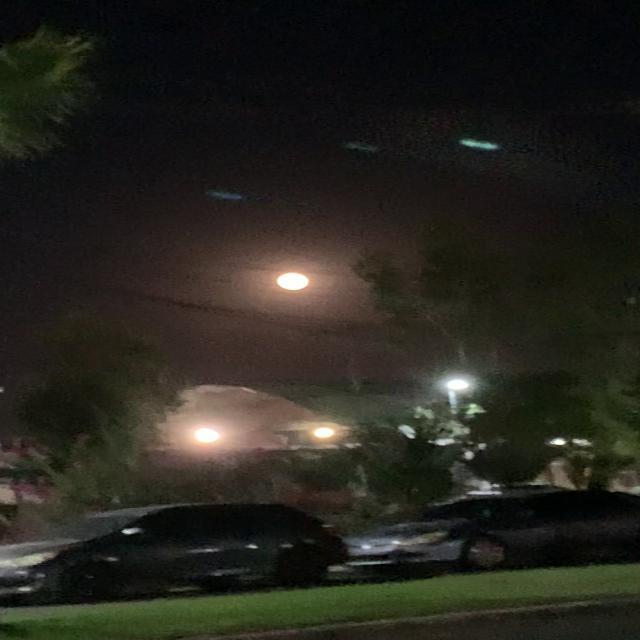moon: (262, 265, 320, 299)
